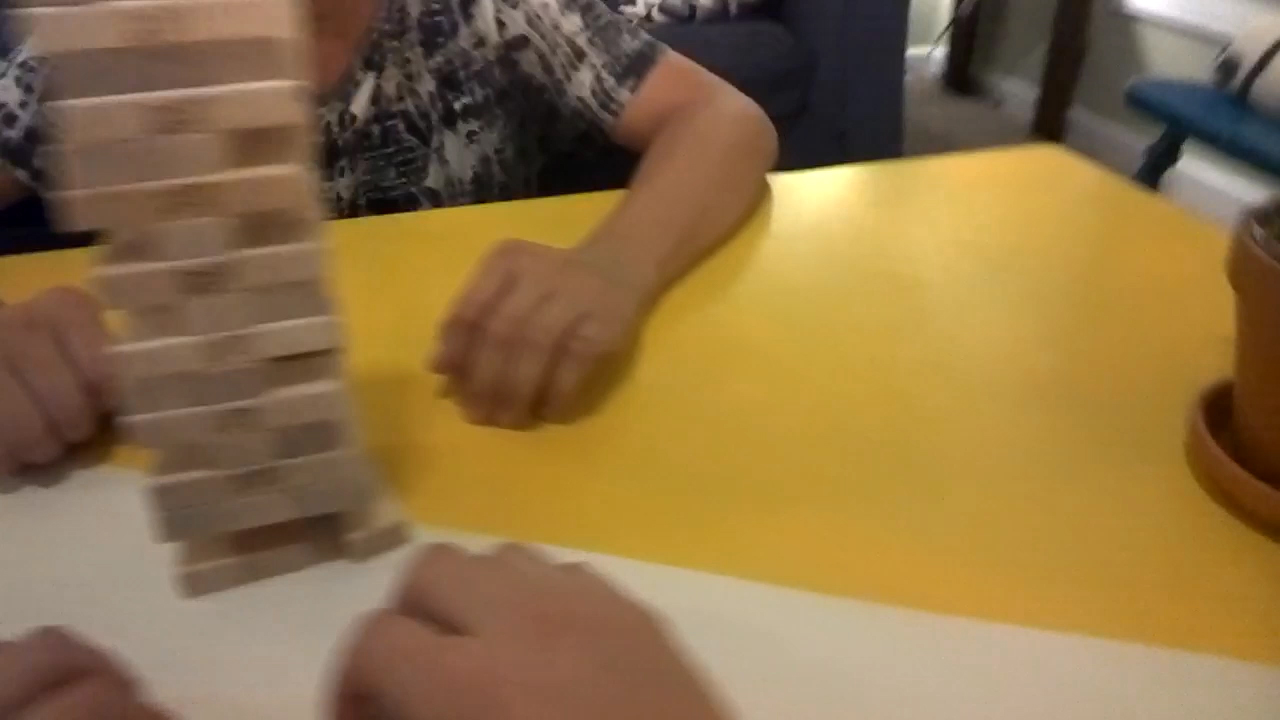hand: (316, 537, 725, 717), (428, 238, 651, 425), (2, 281, 119, 473), (0, 622, 163, 717)
